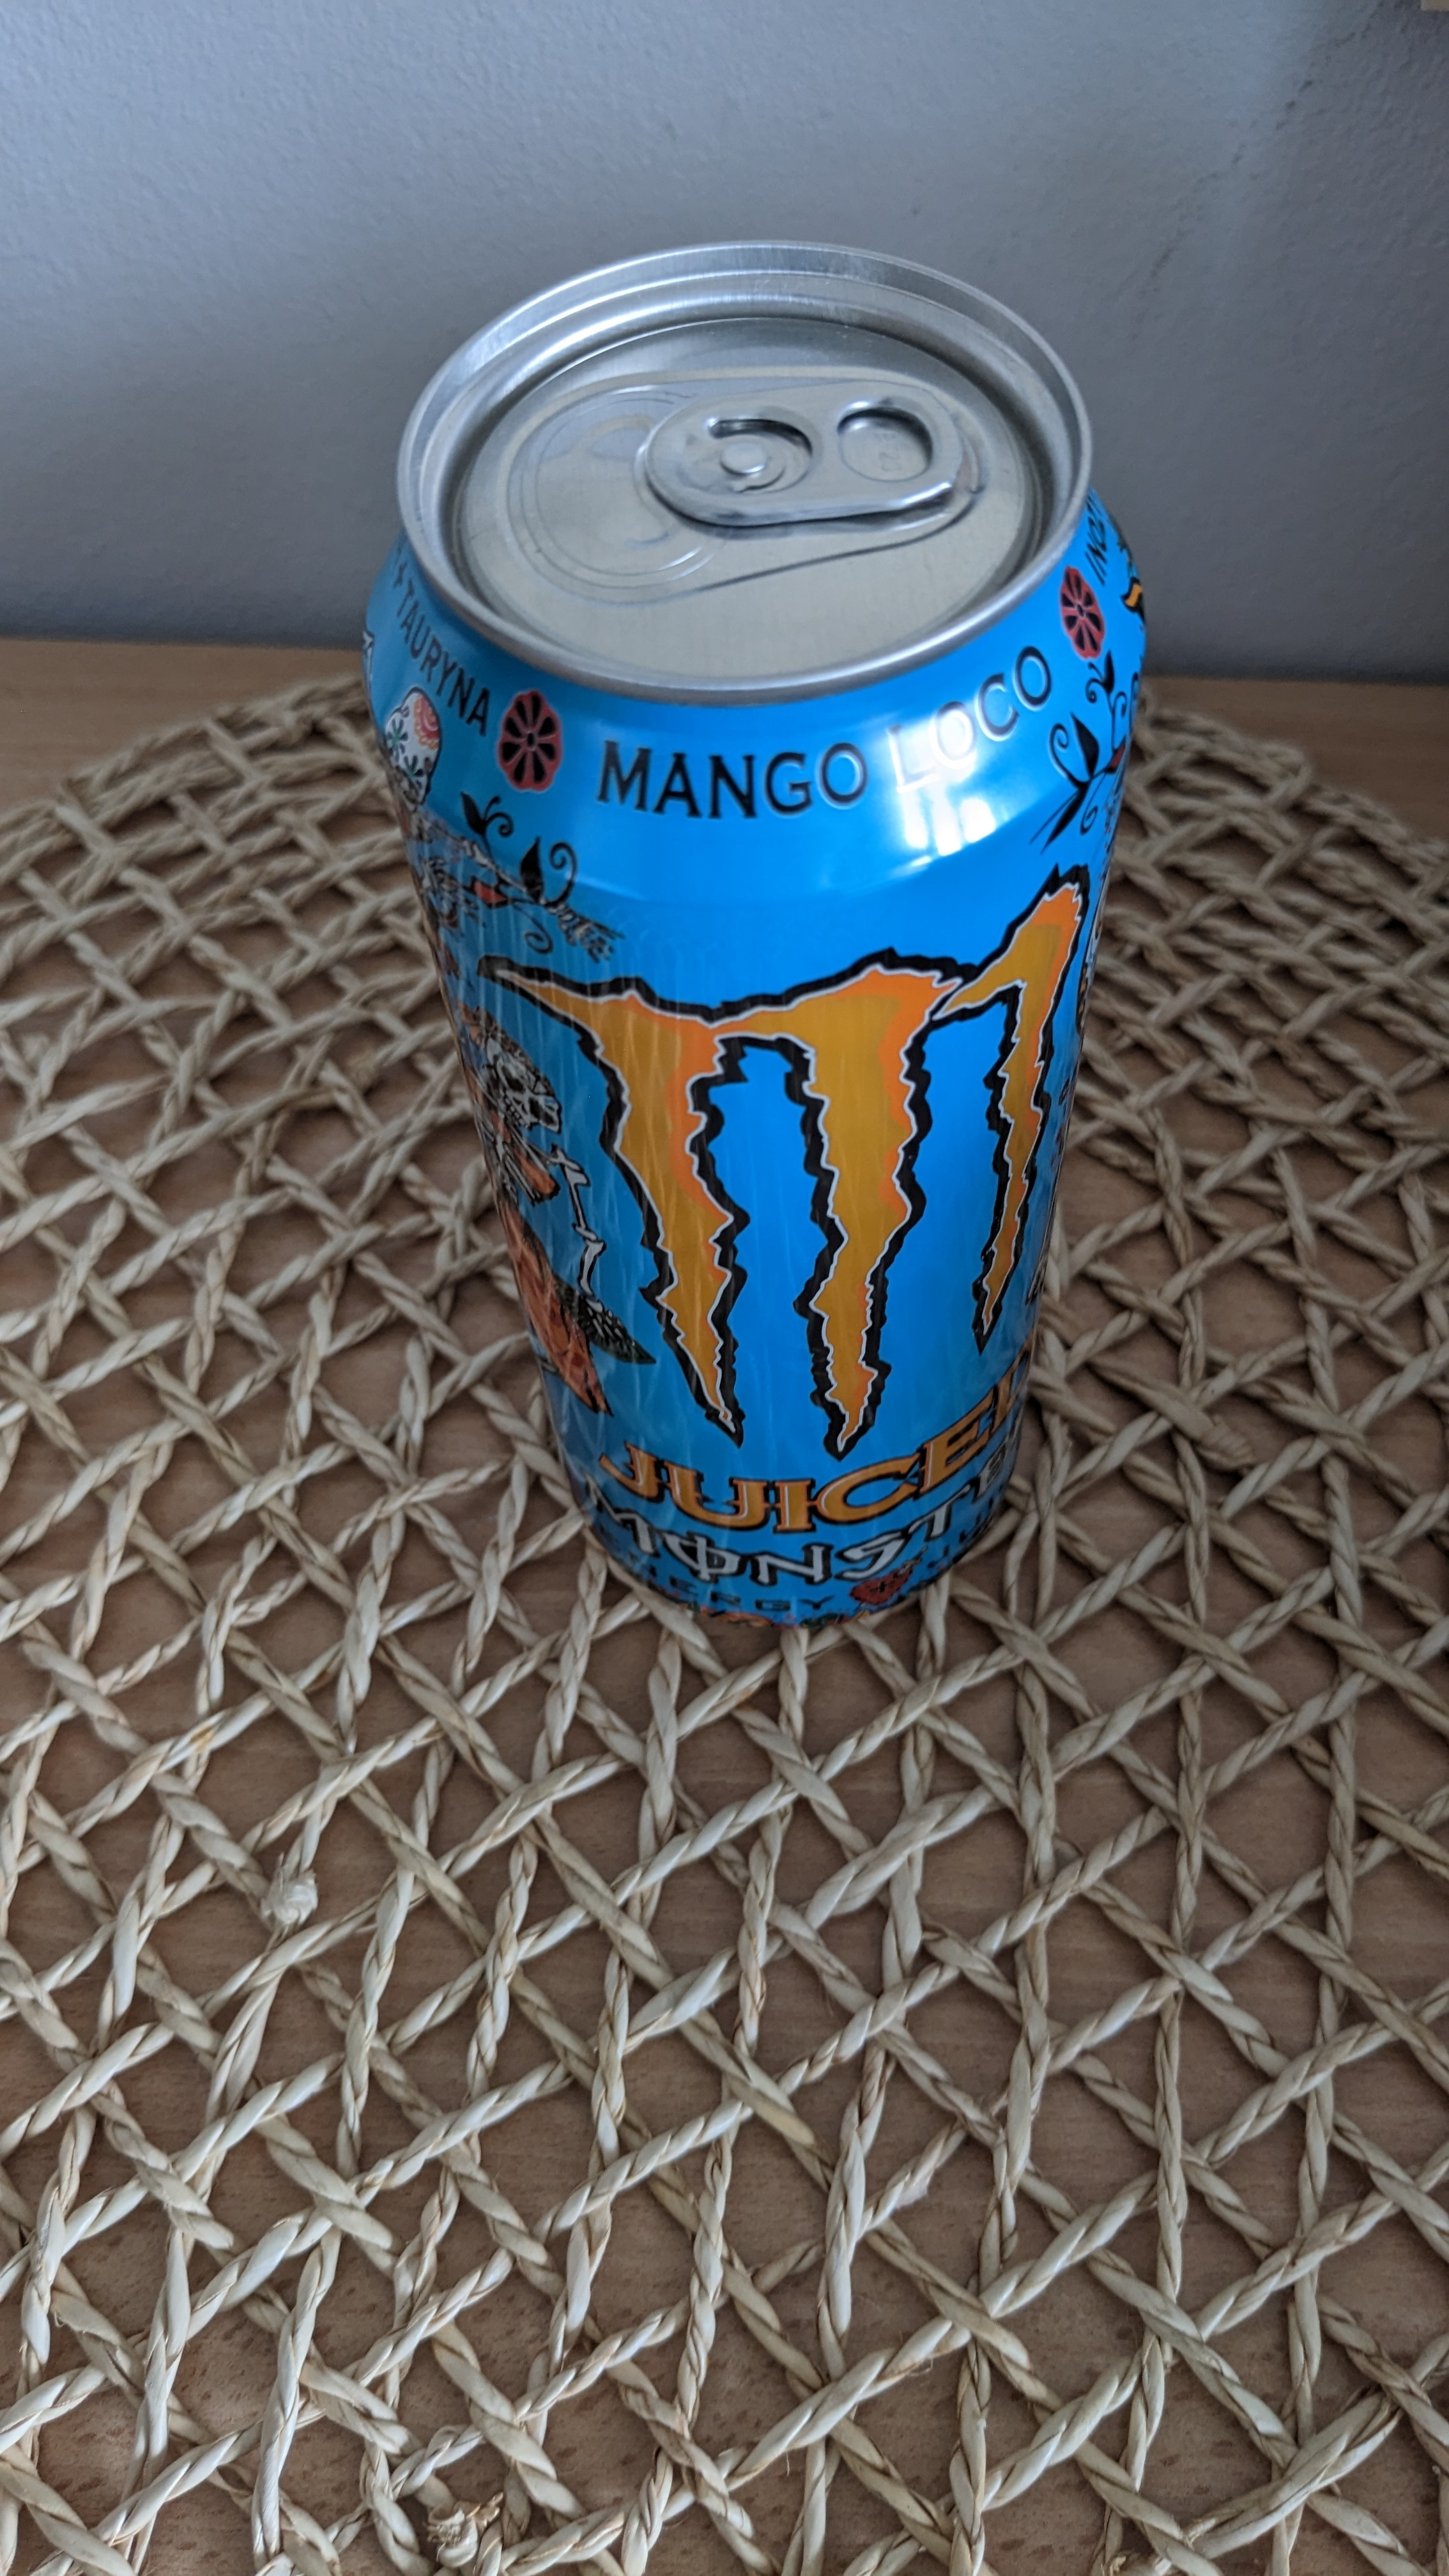monster: (341, 212, 1166, 1723)
